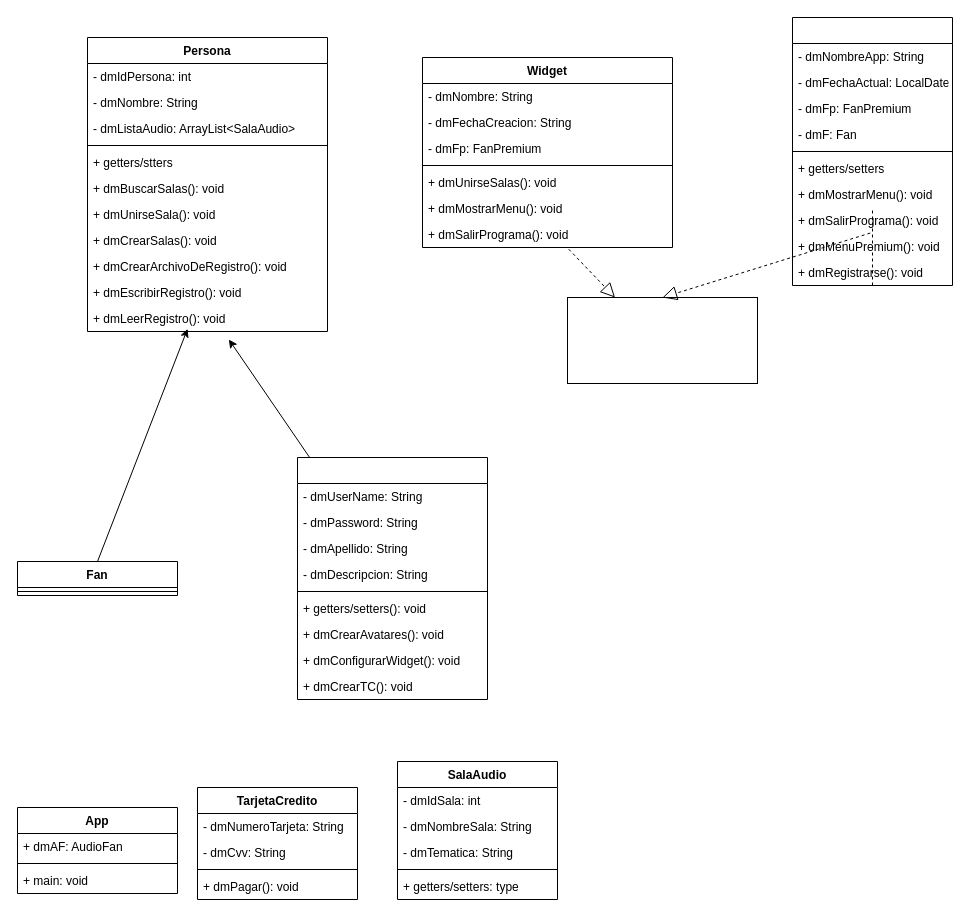
This 970x920 diagram has some shape labels left out. The box of each missing label's shape, as (x1, y1, x2, y2) in pixels:
<<Interface>> MenuSalir + dmMostrarMenu(): void + salirPrograma(): void: (566, 296, 758, 384)
AudioFan: (792, 16, 952, 286)
FanPremium: (296, 456, 488, 700)
